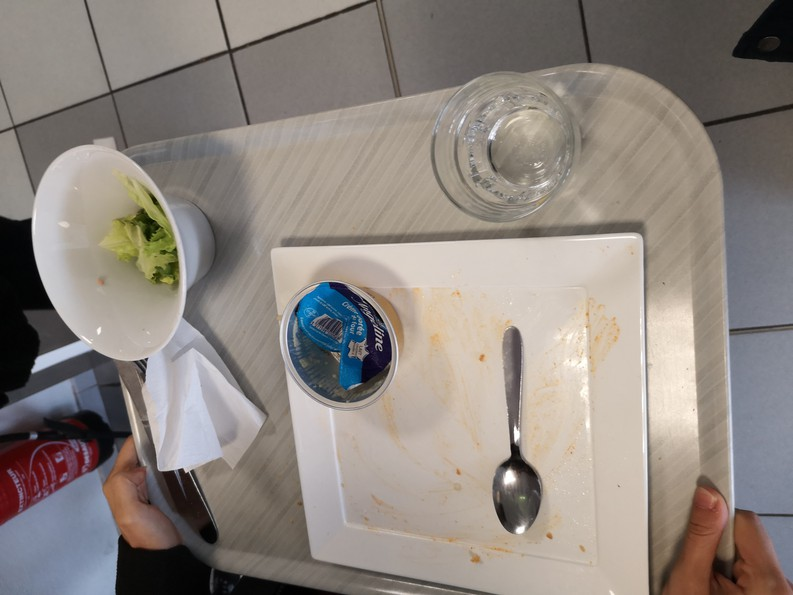cup: (406, 77, 596, 220)
cutlery: (491, 320, 549, 542), (155, 466, 245, 550)
trash: (273, 276, 406, 415), (153, 310, 248, 464)
